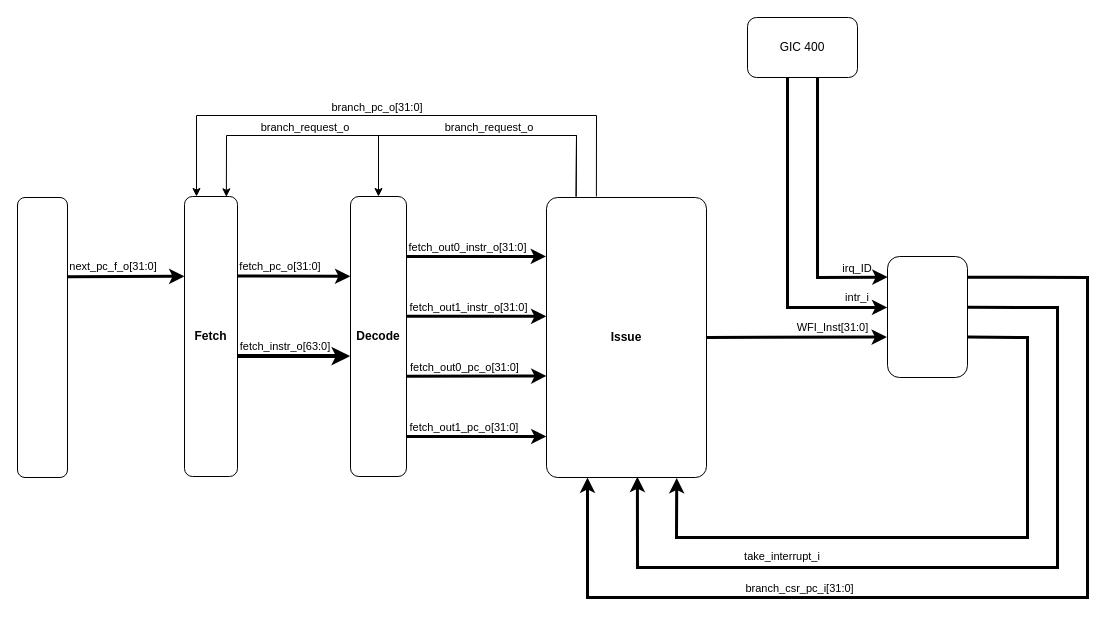
Image size: 1114x624. Some labels were removed from this diagram. The shapes that lost their labels are listed below. From the top down, each one's box as (x1, y1, x2, y2) in pixels, then its label:
(16, 196, 68, 478): BPU
(886, 256, 968, 378): CSR
